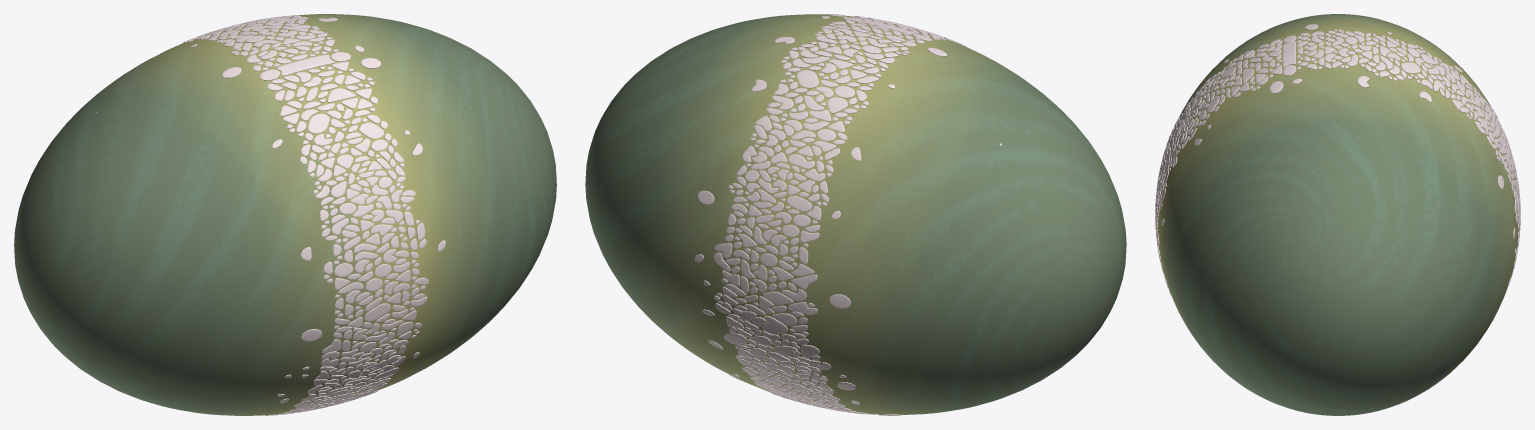
Rendered from planet.gltf.
3 renders of one model, left to right at view 1: azimuth 30°, elevation 25°; view 2: azimuth 150°, elevation 25°; view 3: azimuth 270°, elevation 25°, orthographic. The views are drawn at different scales.
Visible parts, largest first — view 1: Sphère, planete; view 2: Sphère, planete; view 3: Sphère, planete.
Boxes of the visible parts, x1=… form: Sphère: x1=14, y1=14, x2=556, y2=415; planete: x1=180, y1=15, x2=445, y2=415; Sphère: x1=585, y1=14, x2=1126, y2=414; planete: x1=694, y1=14, x2=988, y2=415; Sphère: x1=1156, y1=14, x2=1518, y2=415; planete: x1=1155, y1=24, x2=1520, y2=321.
Size of the model in its own units: 13.7 by 9.21 by 9.21.
2 materials, 2 textured.
